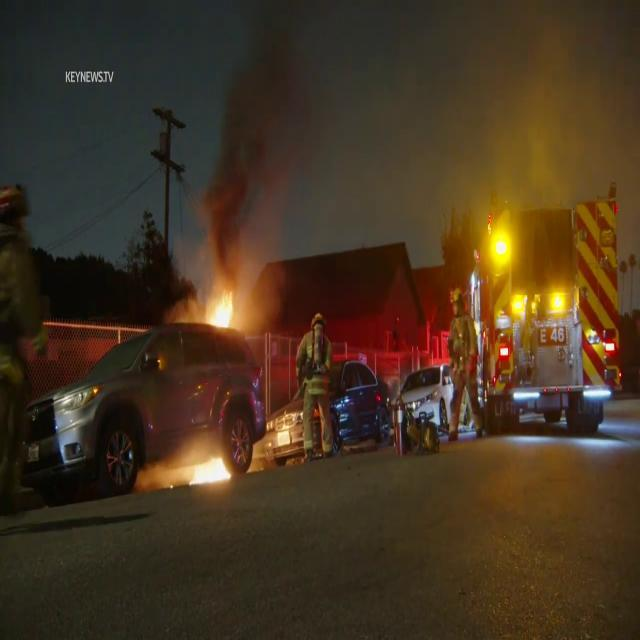Fire: (194, 278, 248, 338)
Smoke: (186, 0, 630, 246)
